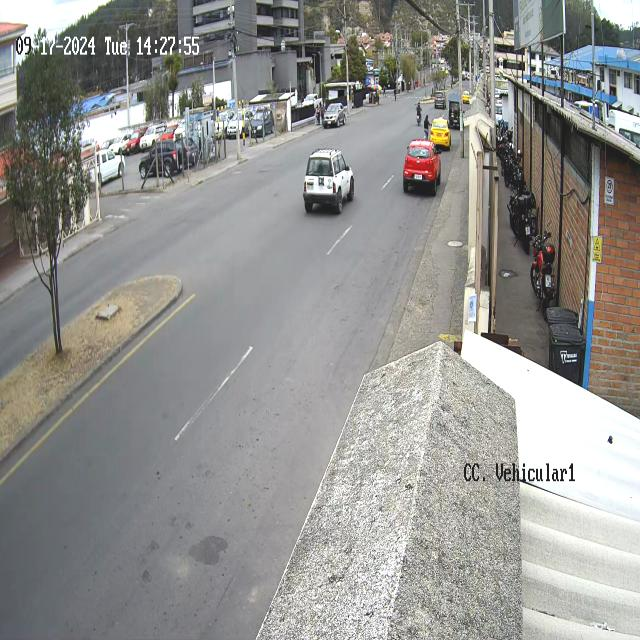SUV: (303, 150, 356, 216), (404, 139, 442, 197)
